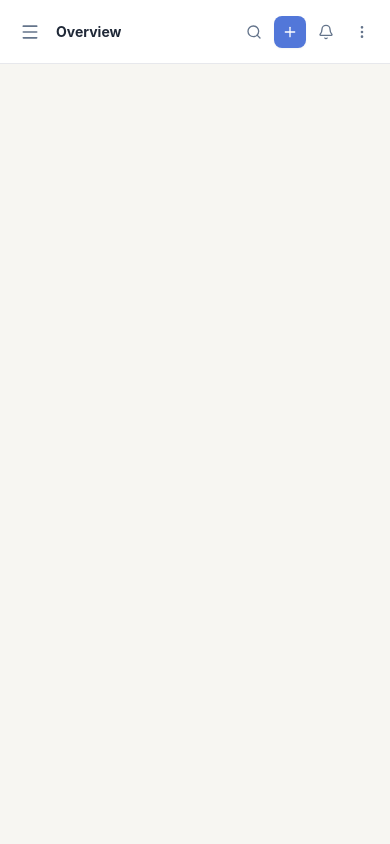
Test: Responsive UI - Header › toggles mobile overflow menu on small screens and closes on Escape
The image size is (390, 844).
Click the button named "more actions". click: click(362, 32)
box: [346, 16, 378, 48]
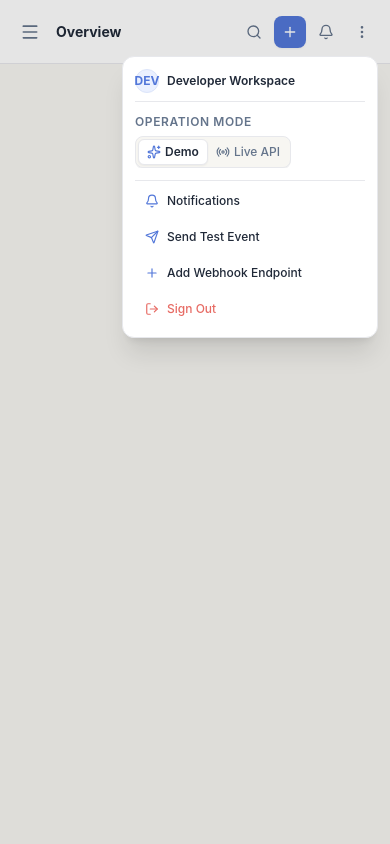
Expected: the text "Developer Workspace" is shown, [167, 72, 295, 88]
Expected: the text "Send Test Event" is shown, [167, 228, 260, 244]
# Pressing Escape should close the overflow menu
Press Escape
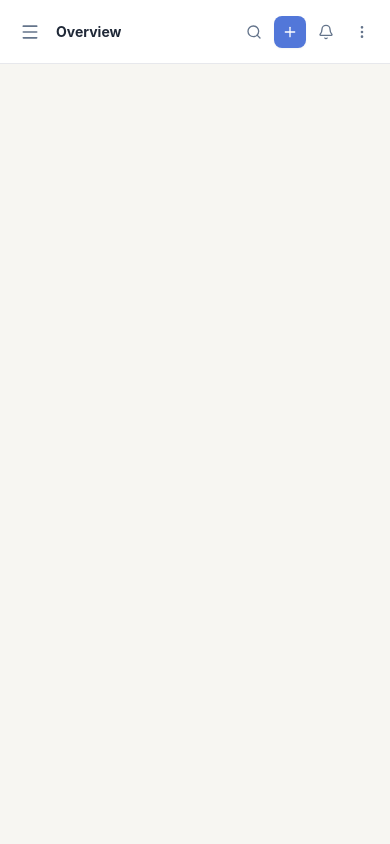
Expected: the text "Developer Workspace" is gone
